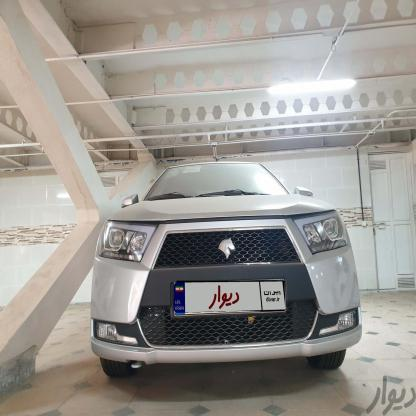Car: (82, 156, 364, 374)
